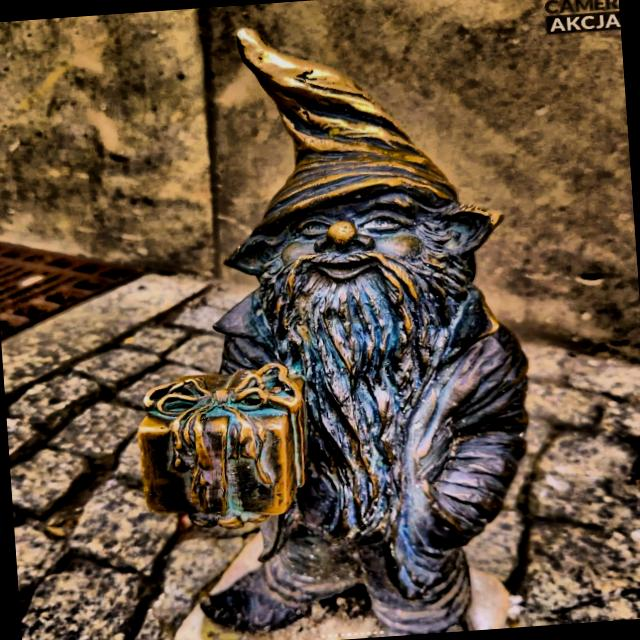Suvenirek: (139, 29, 527, 636)
